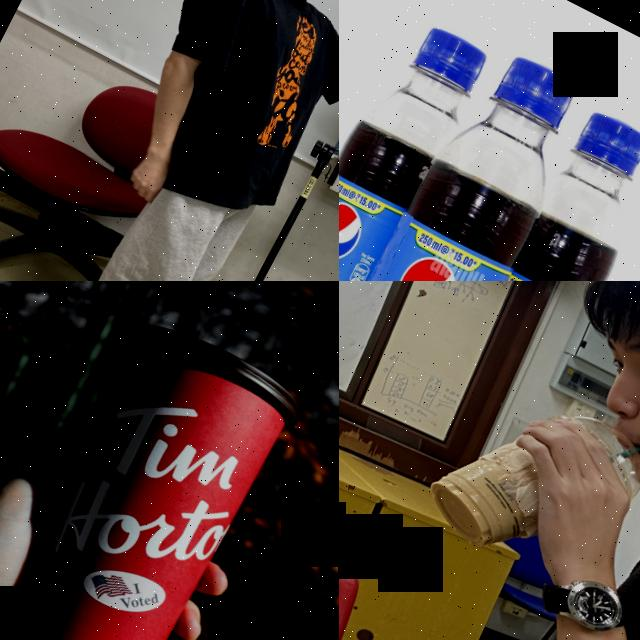bottle: (339, 37, 599, 281), (401, 100, 640, 281), (339, 5, 495, 281)
cup: (0, 302, 311, 640), (417, 366, 640, 598)
